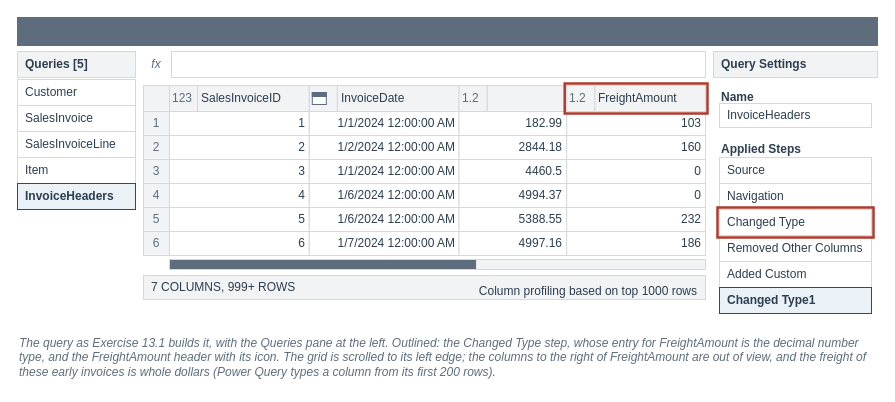
Some shapes in this 895 by 402 pixel diagram are drawn without their labels. Here are the shapes that lost their labels. From the top down, the centre of each, then its label:
pixel 447 31: InvoiceHeaders - Power Query Editor
pixel 438 64: = Table.TransformColumnTypes(#"Added Custom",{{"FiscalYear", Int64.Type}})
pixel 526 98: SubTotal
